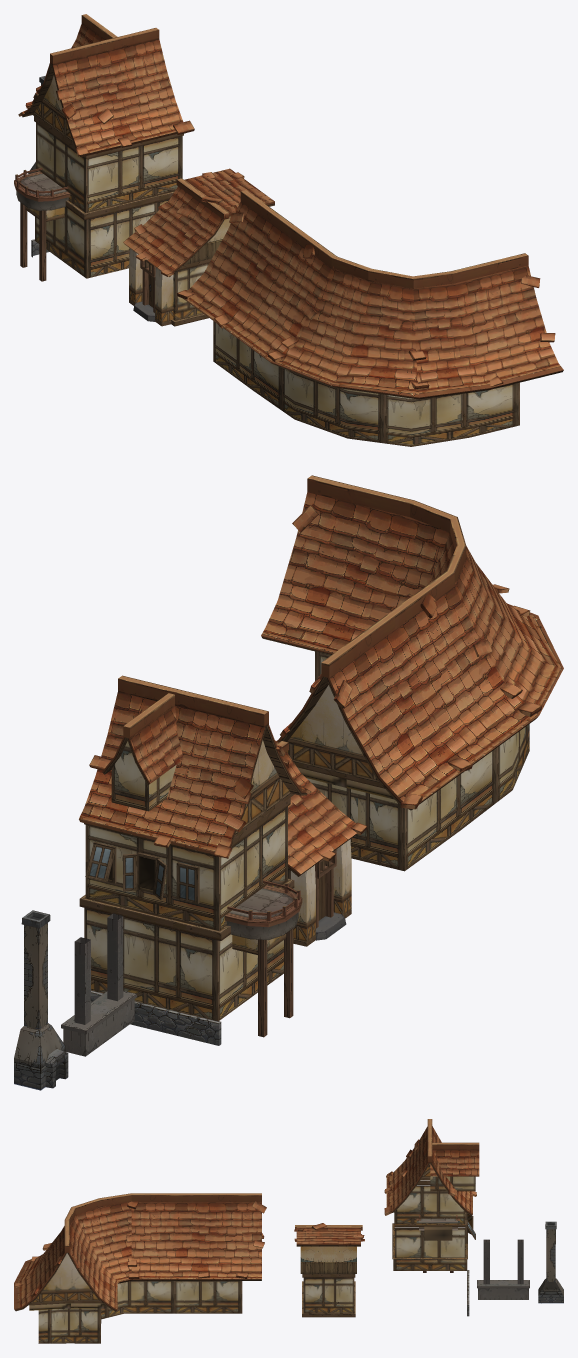
The model's file is 2_CZ_FangWu_01.FBX.
The picture shows the model from 3 angles, top to bottom: view 1: azimuth 30°, elevation 25°; view 2: azimuth 150°, elevation 25°; view 3: azimuth 270°, elevation 25°; orthographic projection. The views are drawn at different scales.
Parts seen in each view (by area): view 1: 2_CZ_FangWu_03, 2_CZ_FangWu_02, 2_CZ_FangWu_05, 2_CZ_FangWu_01, 2_CZ_FangWu_07, 2_CZ_FangWu_06, 2_CZ_FangWu_04; view 2: 2_CZ_FangWu_03, 2_CZ_FangWu_02, 2_CZ_FangWu_01, 2_CZ_FangWu_04, 2_CZ_FangWu_11, 2_CZ_FangWu_07, 2_CZ_FangWu_05, 2_CZ_FangWu_06, 2_CZ_FangWu_09, 2_CZ_FangWu_10, 2_CZ_FangWu_08, 2_CZ_ChuangHu_01 (+2 smaller); view 3: 2_CZ_FangWu_03, 2_CZ_FangWu_02, 2_CZ_FangWu_05, 2_CZ_FangWu_01, 2_CZ_FangWu_04, 2_CZ_FangWu_11, 2_CZ_FangWu_07, 2_CZ_FangWu_10, 2_CZ_FangWu_09.
Boxes of the visible parts, x1,y1,x2,y2 form: 2_CZ_FangWu_03: (177, 190, 563, 446); 2_CZ_FangWu_02: (18, 28, 194, 220); 2_CZ_FangWu_05: (123, 168, 274, 326); 2_CZ_FangWu_01: (35, 199, 168, 278); 2_CZ_FangWu_07: (14, 167, 70, 281); 2_CZ_FangWu_06: (129, 248, 173, 326); 2_CZ_FangWu_04: (71, 14, 117, 48); 2_CZ_FangWu_03: (261, 475, 563, 871); 2_CZ_FangWu_02: (79, 675, 311, 940); 2_CZ_FangWu_01: (84, 908, 283, 1020); 2_CZ_FangWu_04: (102, 693, 183, 811); 2_CZ_FangWu_11: (61, 913, 136, 1056); 2_CZ_FangWu_07: (224, 880, 302, 1037); 2_CZ_FangWu_05: (275, 740, 367, 943); 2_CZ_FangWu_06: (291, 839, 351, 946); 2_CZ_FangWu_09: (14, 1023, 68, 1090); 2_CZ_FangWu_10: (21, 910, 50, 1029); 2_CZ_FangWu_08: (91, 990, 221, 1045); 2_CZ_ChuangHu_01: (123, 852, 167, 900); 2_CZ_FangWu_03: (14, 1193, 266, 1343); 2_CZ_FangWu_02: (384, 1119, 476, 1259); 2_CZ_FangWu_05: (294, 1223, 364, 1317); 2_CZ_FangWu_01: (393, 1227, 467, 1297); 2_CZ_FangWu_04: (430, 1142, 479, 1191); 2_CZ_FangWu_11: (477, 1239, 529, 1299); 2_CZ_FangWu_07: (416, 1215, 459, 1272); 2_CZ_FangWu_10: (545, 1221, 556, 1281); 2_CZ_FangWu_09: (538, 1278, 563, 1303).
Bounding box in the file's own units: 1767 × 1485 × 4626.
Materials: 4 (4 with a texture image).
